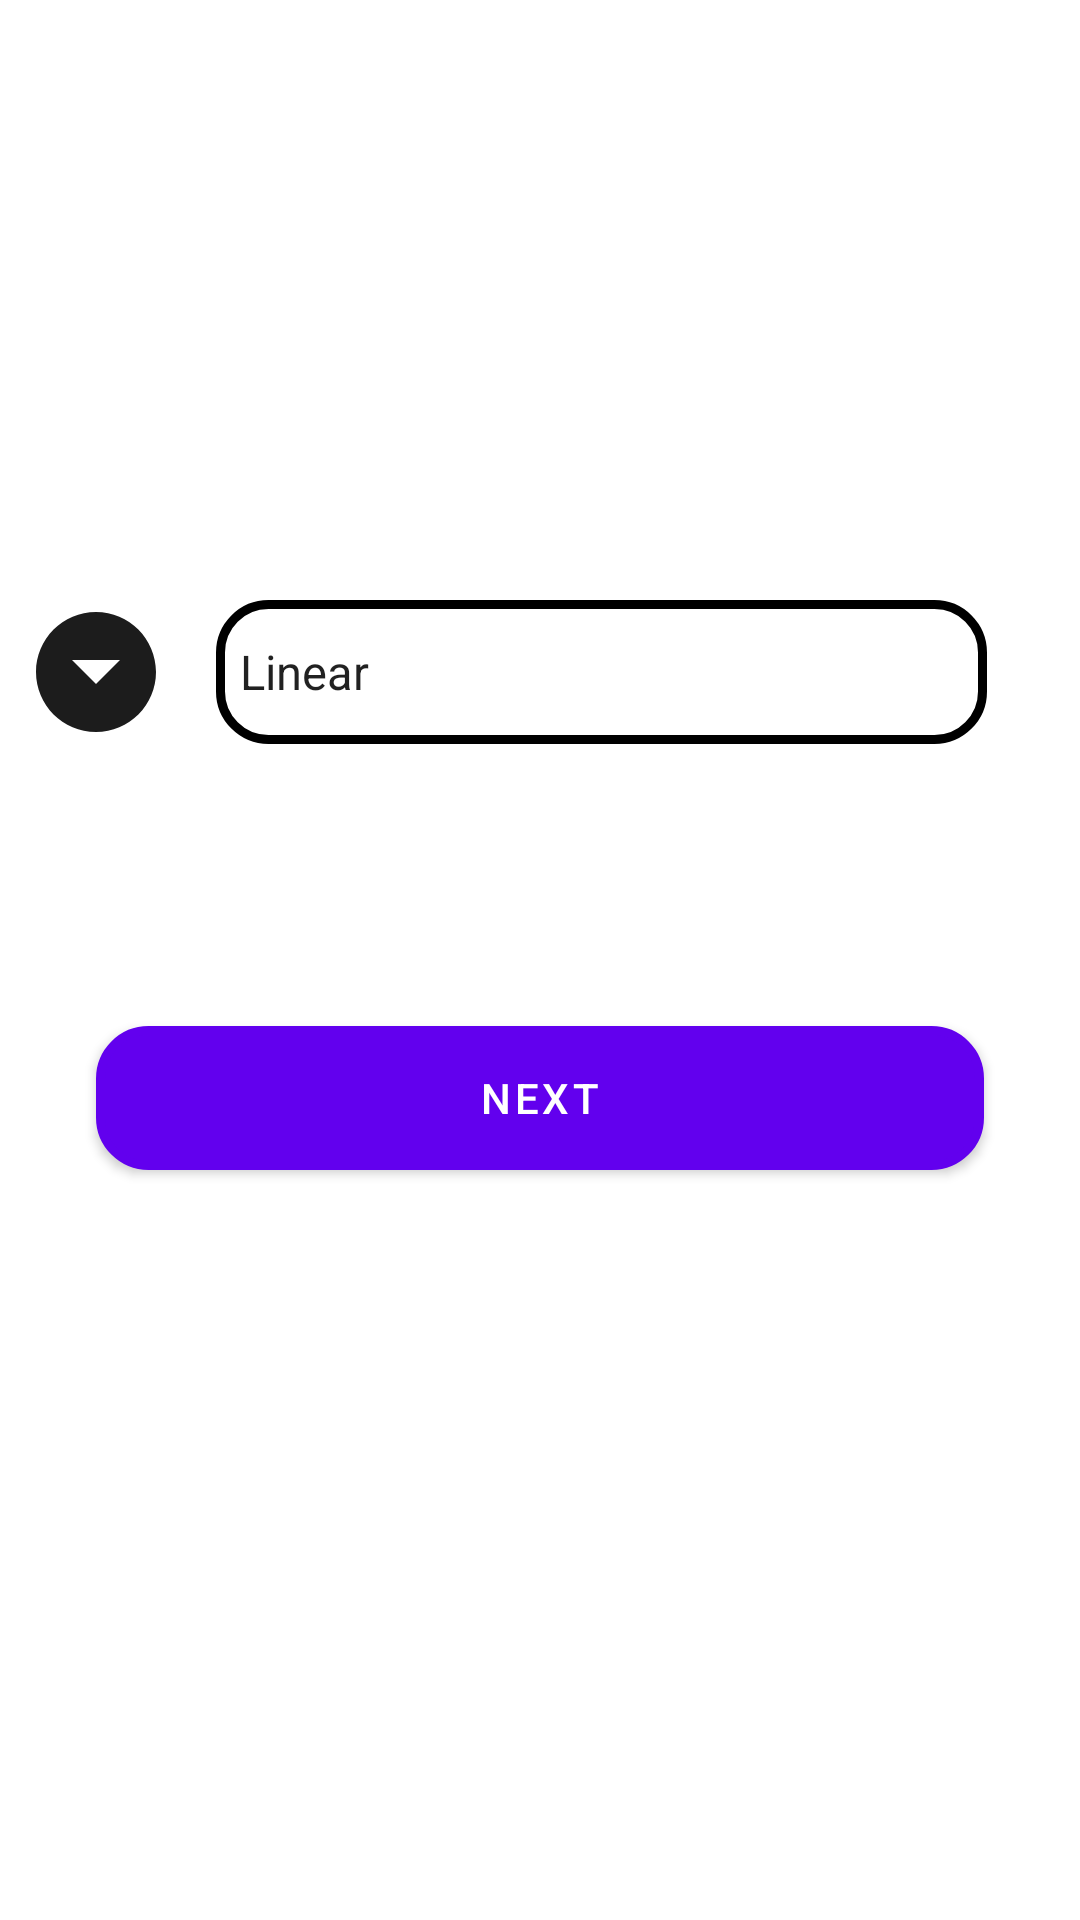

Icon click points for this 1080 x 1920 phone screenshot, format point (x, y):
arrow drop down circle: point (96, 672)
